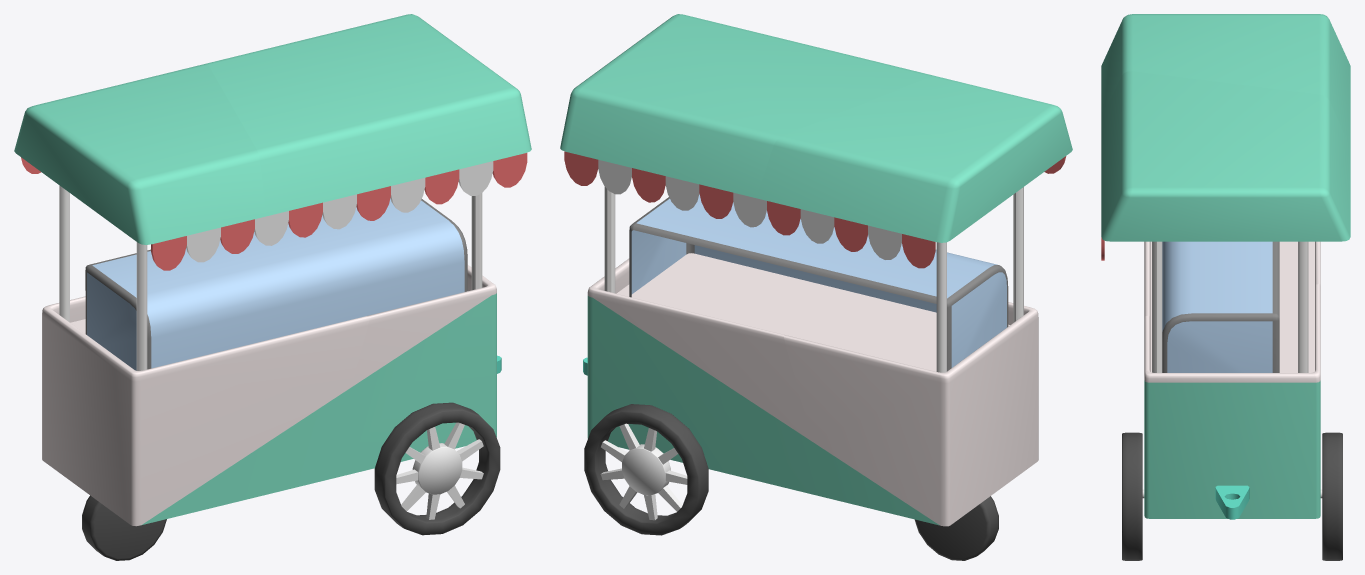
File: Icecream_cut.FBX
3 views of the same model, side by side, from view 1: azimuth 30°, elevation 25°; view 2: azimuth 150°, elevation 25°; view 3: azimuth 270°, elevation 25° (orthographic). The views are drawn at different scales.
Parts seen in each view (by area): view 1: Icecream_cut; view 2: Icecream_cut; view 3: Icecream_cut.
Part boxes in pixels (left/top/right/bottom): Icecream_cut: left=14, top=14, right=531, bottom=560; Icecream_cut: left=560, top=14, right=1072, bottom=560; Icecream_cut: left=1101, top=14, right=1350, bottom=560.
Bounding box in the file's own units: 252 × 241 × 135.
